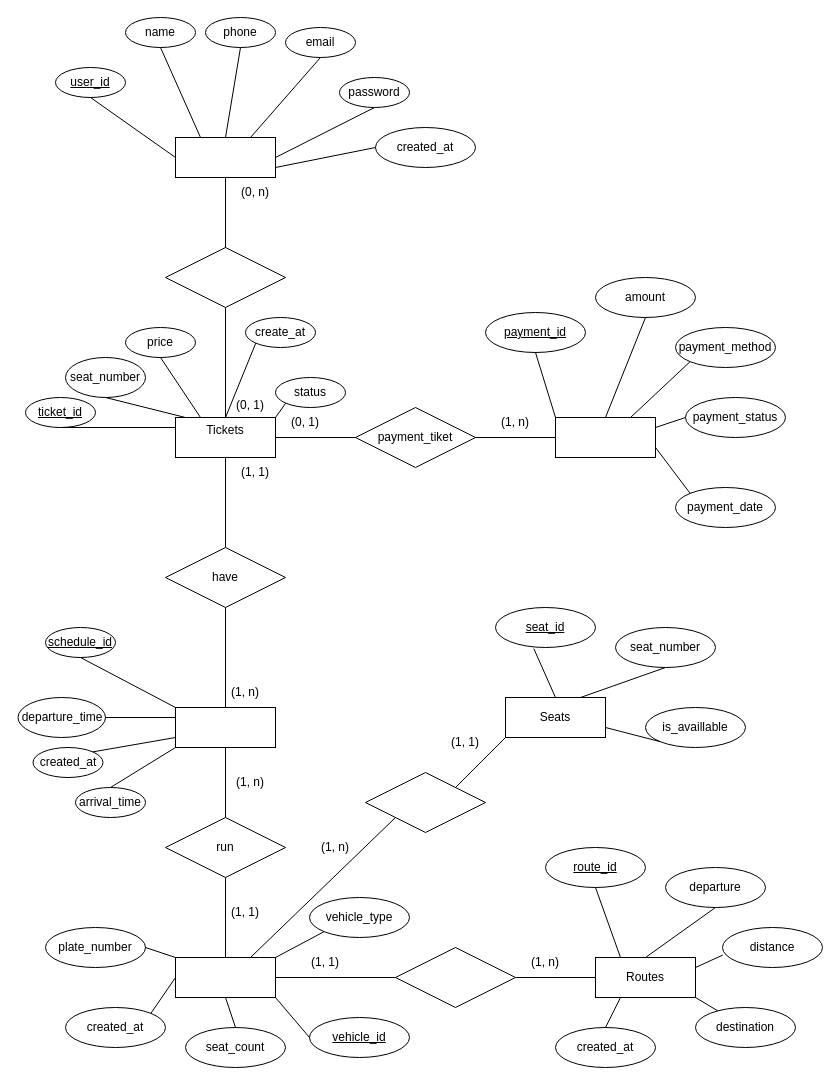
Some shapes in this 840 by 1085 pixel diagram are drawn without their labels. The box of each missing label's shape, as (x1, y1, x2, y2) in pixels:
belong: (364, 772, 486, 832)
book: (164, 246, 286, 308)
Payments: (554, 416, 656, 458)
Schedules: (174, 706, 276, 748)
sevice: (394, 946, 516, 1008)
Users: (174, 136, 276, 178)
Vehicles: (174, 956, 276, 998)
